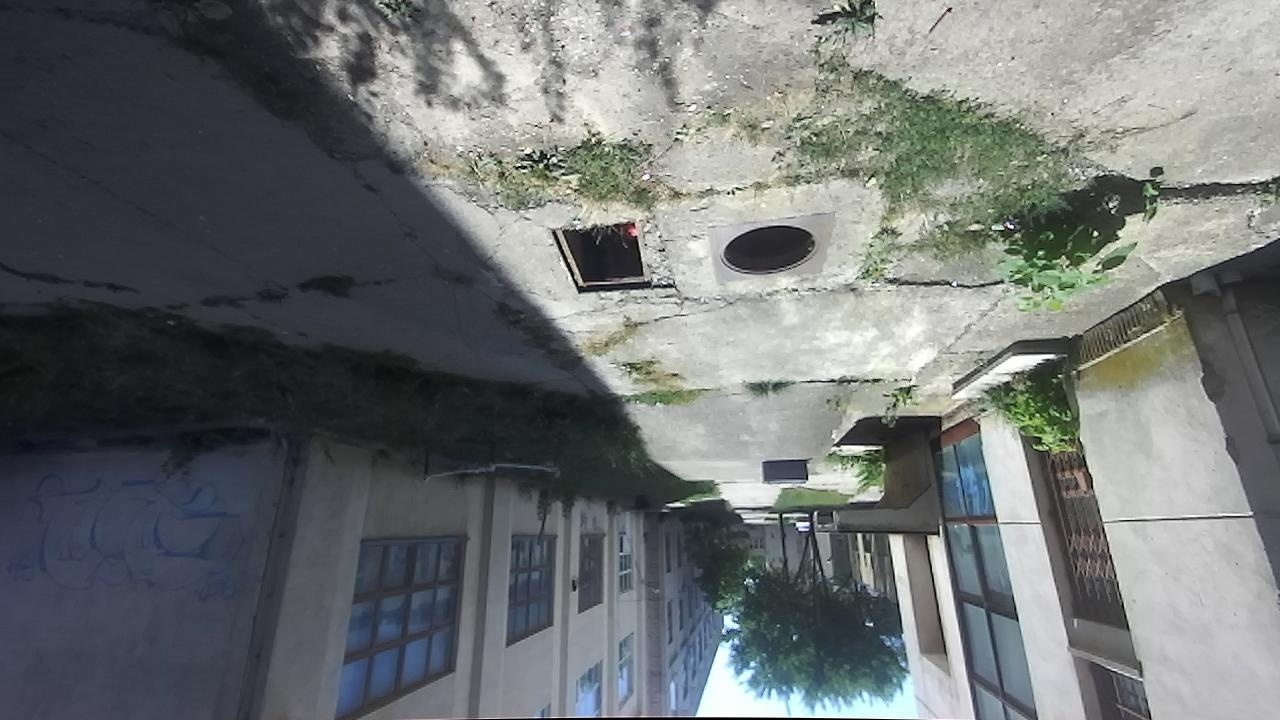drain: (542, 219, 655, 299), (713, 224, 824, 276)
